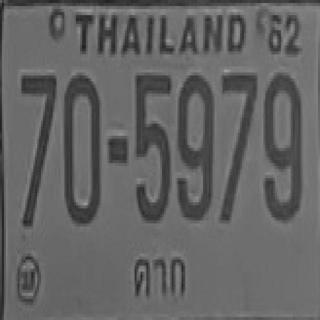N00: (64, 74, 100, 225)
N05: (135, 72, 172, 220)
N07: (218, 71, 258, 222), (19, 72, 56, 226), (19, 72, 56, 175)
N09: (262, 72, 302, 220), (176, 72, 213, 218)
P69: (131, 252, 193, 302)
